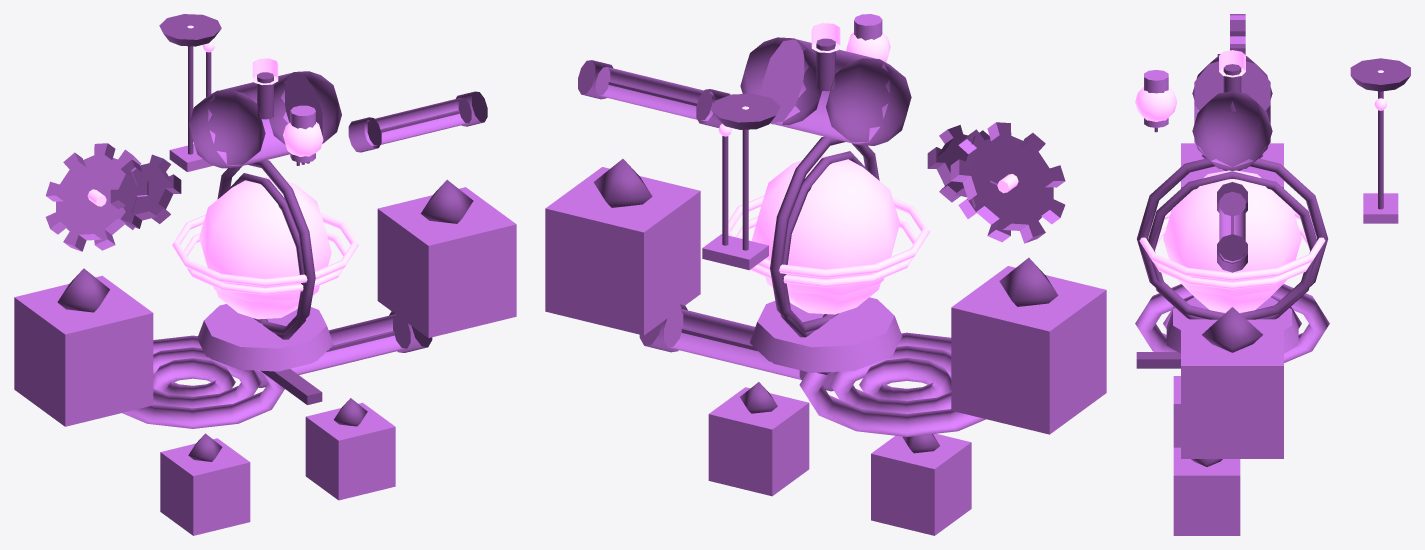
Rendered from golem_108.glb.
3 views of the same model, side by side, from view 1: azimuth 30°, elevation 25°; view 2: azimuth 150°, elevation 25°; view 3: azimuth 270°, elevation 25° (orthographic). The views are drawn at different scales.
Parts seen in each view (by area): view 1: Body, Detail, Glow; view 2: Body, Detail, Glow; view 3: Body, Detail, Glow.
Boxes of the visible parts, left/top/right/bottom form: Body: left=14, top=73, right=516, bottom=535; Detail: left=57, top=14, right=487, bottom=461; Glow: left=87, top=25, right=358, bottom=319; Body: left=545, top=14, right=1106, bottom=535; Detail: left=578, top=37, right=1058, bottom=453; Glow: left=718, top=23, right=1018, bottom=314; Body: left=1135, top=14, right=1398, bottom=535; Detail: left=1136, top=54, right=1410, bottom=466; Glow: left=1135, top=50, right=1386, bottom=312.
Bounding box in the file's own units: 1.45 × 1.31 × 0.7619.
